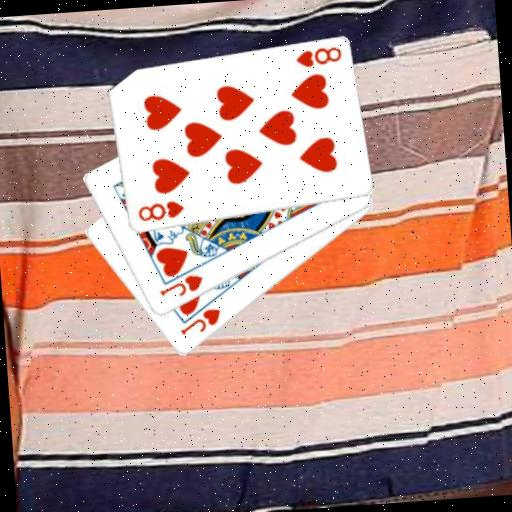8H: (134, 197, 187, 224), (292, 43, 344, 70)
JH: (176, 305, 224, 338), (156, 271, 206, 300)
